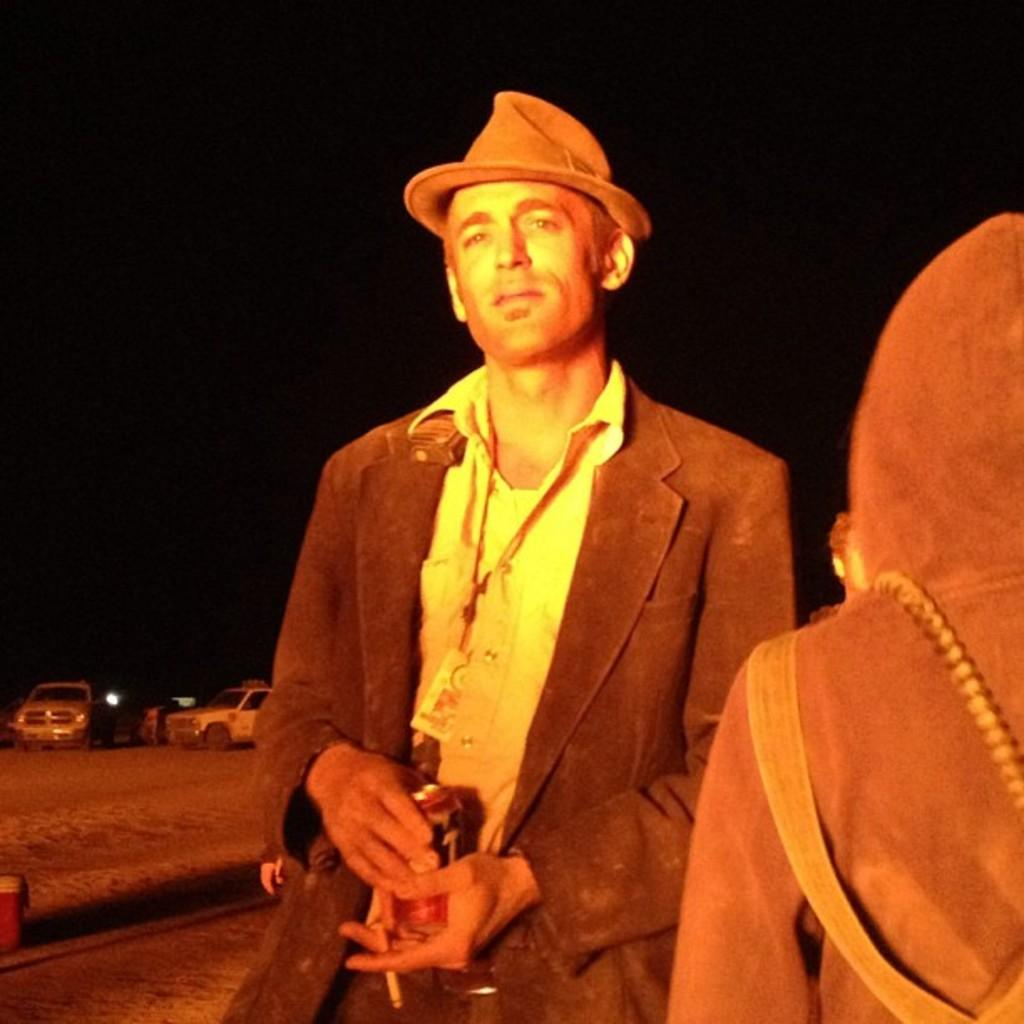Hat: (398, 84, 658, 240)
